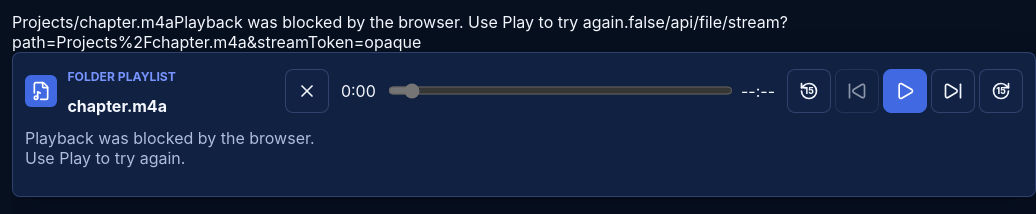
Test: useFolderAudioPlayer lifecycle characterization › T11 stale manual-play rejection cannot mark a replacement track blocked
Click the button named "Play folder audio". click: (905, 91)
box: [883,69,927,113]
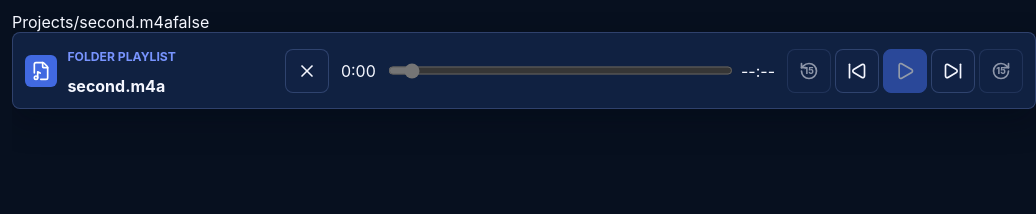
Expected: the text with test id "current-path" reads "Projects/second.m4a", [12,12,173,32]
